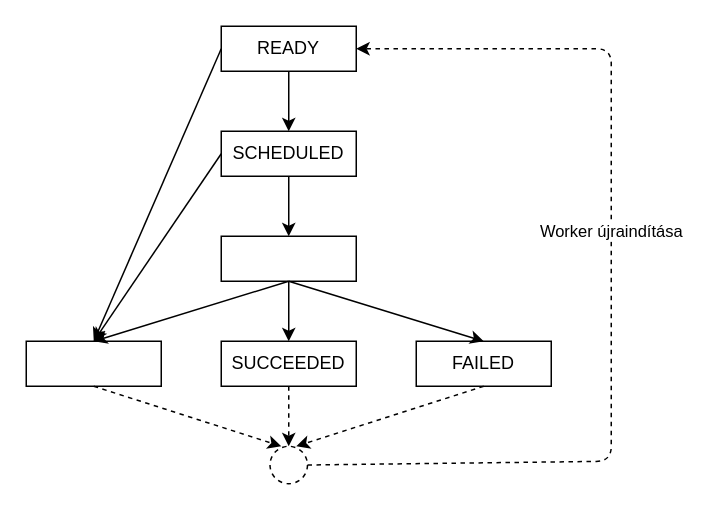
This 708x510 diagram has some shape labels left out. Here are the shapes that lost their labels. From the top down, the centre of each, then its label:
At (x=288, y=258): "RUNNING".
At (x=93, y=363): "CANCELLED".
